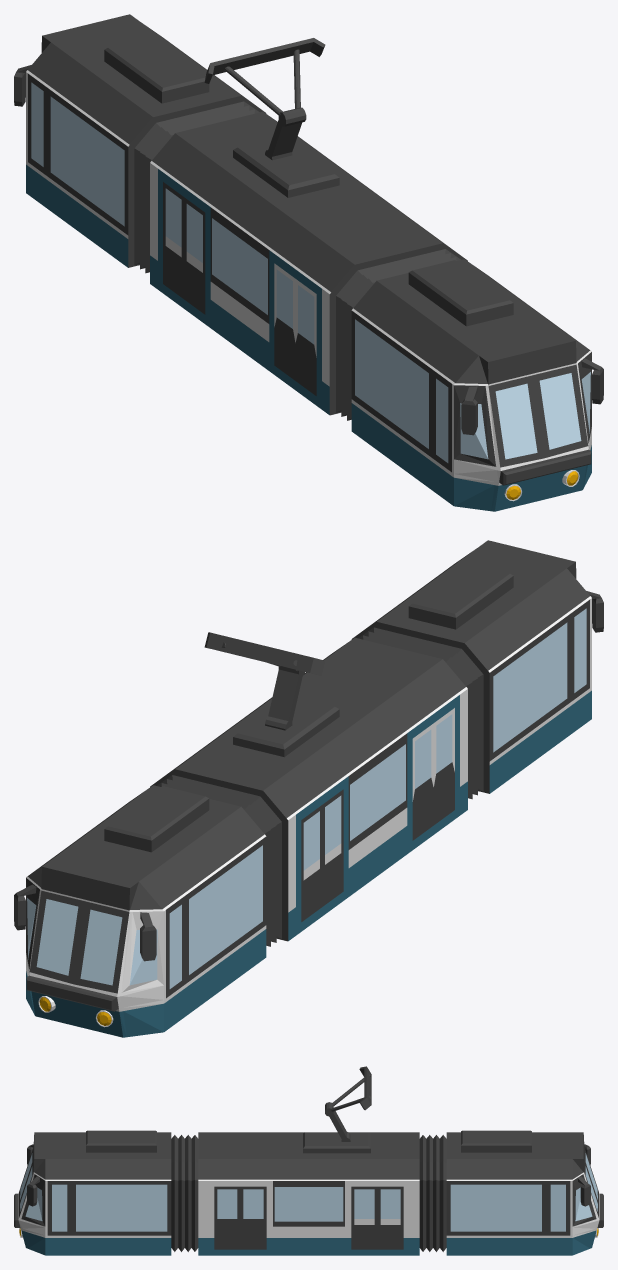
The model's file is Train.glb.
3 views of the same model, one above another, from view 1: azimuth 30°, elevation 25°; view 2: azimuth 150°, elevation 25°; view 3: azimuth 270°, elevation 25° (orthographic). The views are drawn at different scales.
Parts seen in each view (by area): view 1: Tram; view 2: Tram; view 3: Tram.
Boxes of the visible parts, x1,y1,x2,y2 form: Tram: (14,14,603,511); Tram: (14,540,603,1037); Tram: (14,1066,603,1255).
Bounding box in the file's own units: 38.52 × 63.95 × 224.
1 material, 1 textured.
